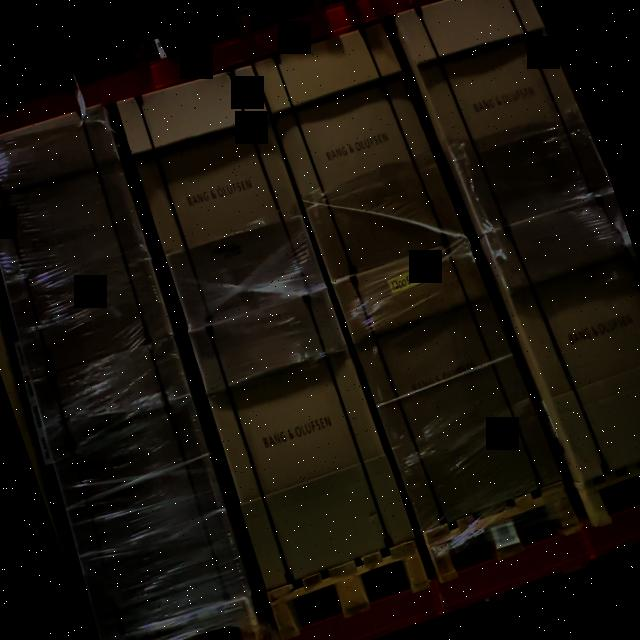box: (186, 290, 418, 590), (333, 238, 565, 537), (31, 334, 249, 640), (254, 20, 469, 284), (118, 60, 326, 328), (393, 0, 613, 231), (0, 106, 174, 380)
